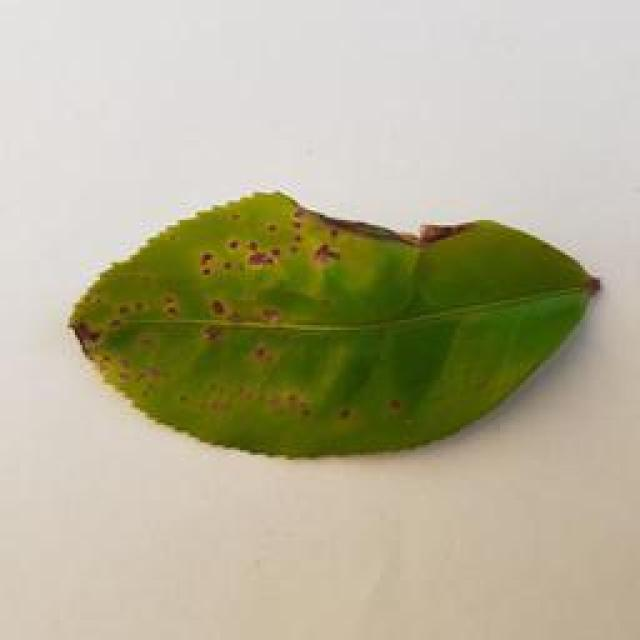Helopeltis: (60, 185, 605, 468)
